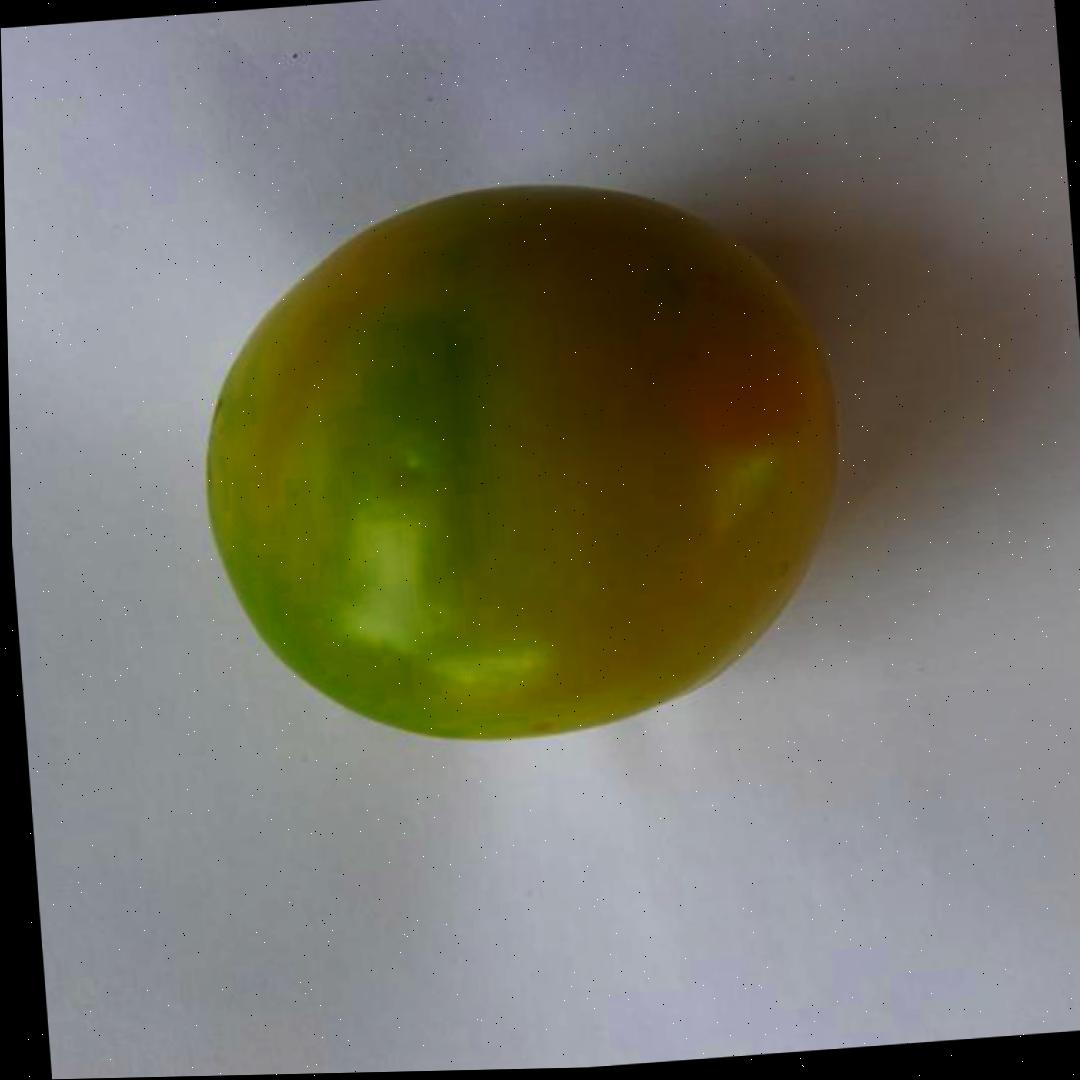setengah_matang: (175, 152, 871, 766)
